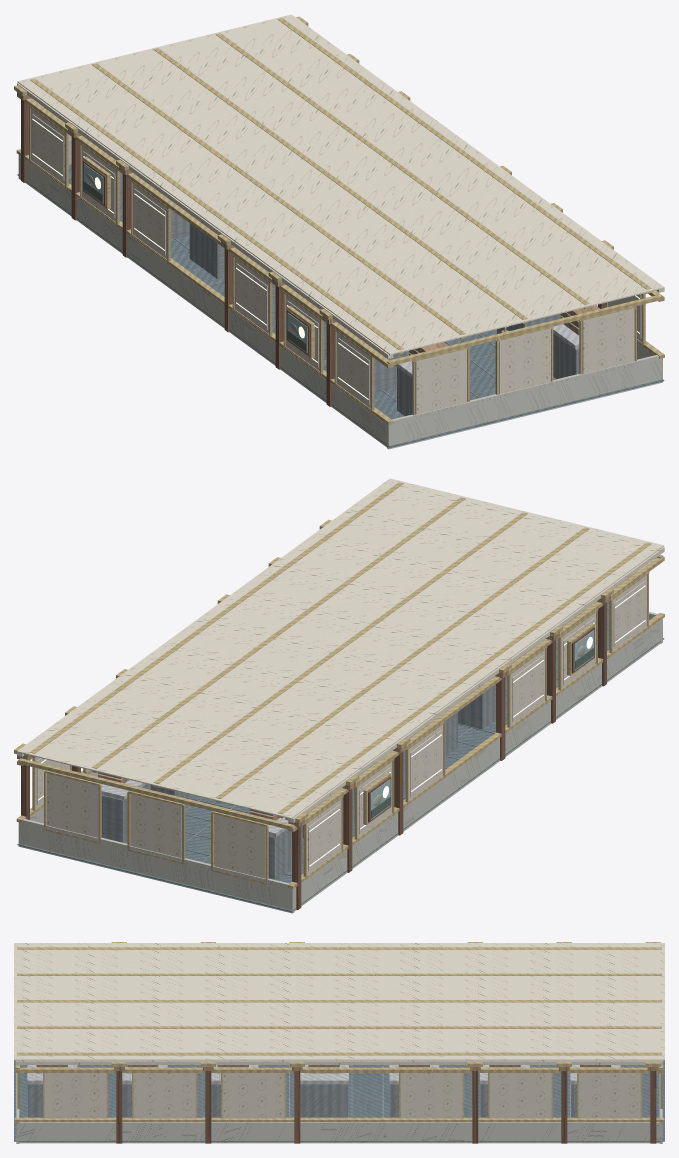
Rendered from service.gltf.
3 views of the same model, one above another, from view 1: azimuth 30°, elevation 25°; view 2: azimuth 150°, elevation 25°; view 3: azimuth 270°, elevation 25° (orthographic). The views are drawn at different scales.
Visible parts, largest first — view 1: ivory, gold, cream, marble, steel, steeldark, oakdark, oak, silver, sky; view 2: ivory, gold, cream, marble, steel, oakdark, steeldark, silver, sky; view 3: ivory, gold, cream, marble, steeldark, steel, oakdark, silver, bronze.
Boxes of the visible parts, x1,y1,x2,y2 form: ivory: (17,14,664,358); gold: (14,16,664,424); cream: (30,108,642,414); marble: (18,139,662,449); steel: (68,172,579,416); steeldark: (17,164,664,447); oakdark: (21,99,605,406); oak: (17,92,599,352); silver: (84,137,579,377); sky: (83,163,307,353); ivory: (17,478,664,822); gold: (14,482,664,888); cream: (35,574,647,878); marble: (18,612,662,913); steel: (101,601,609,880); oakdark: (21,602,606,909); steeldark: (17,637,664,911); silver: (97,588,614,837); sky: (370,630,594,819); ivory: (14,943,664,1064); gold: (14,942,664,1122); cream: (43,1073,641,1118); marble: (16,1073,662,1143); steeldark: (14,1060,664,1141); steel: (27,1065,650,1117); oakdark: (116,1071,656,1143); silver: (27,1065,620,1083); bronze: (36,1065,610,1066).
Bounding box in the file's own units: 9.28 × 2.99 × 20.85.
Materials: 17 (17 with a texture image).
